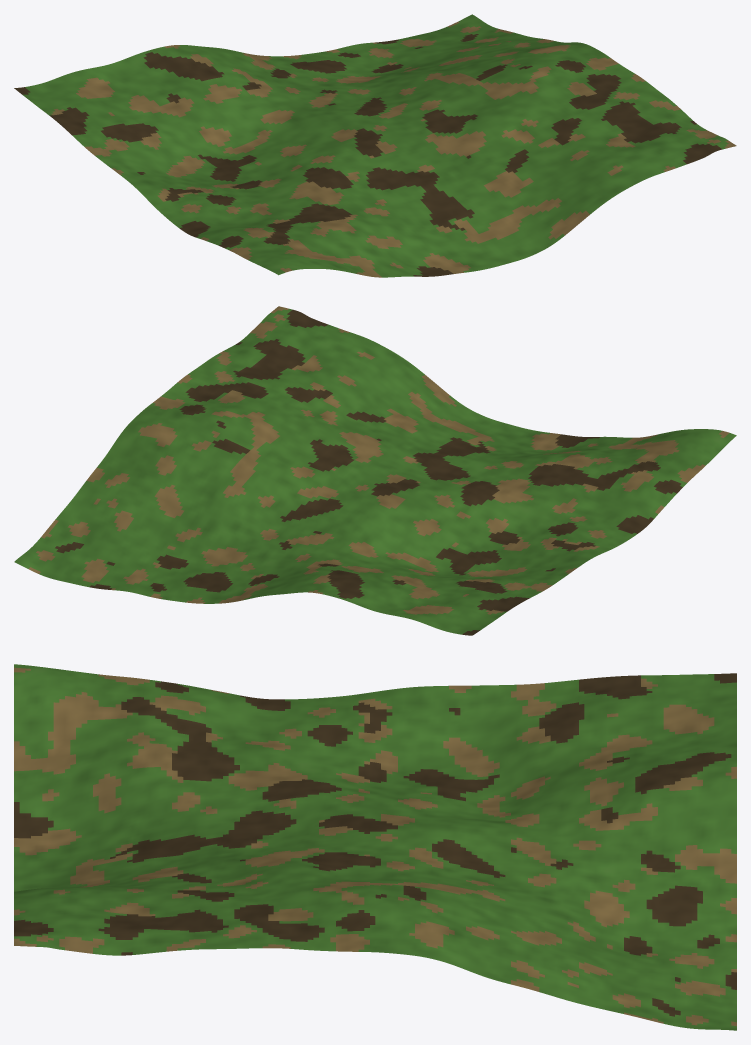
The model's file is chunk_0_5.glb.
3 renders of one model, top to bottom at view 1: azimuth 30°, elevation 25°; view 2: azimuth 150°, elevation 25°; view 3: azimuth 270°, elevation 25°, orthographic. The views are drawn at different scales.
Visible parts, largest first — view 1: Surface_Grass, Surface_Dirt, Surface_Mud; view 2: Surface_Grass, Surface_Dirt, Surface_Mud; view 3: Surface_Grass, Surface_Dirt, Surface_Mud.
Boxes of the visible parts, x1=… form: Surface_Grass: x1=22, y1=14, x2=728, y2=277; Surface_Dirt: x1=51, y1=21, x2=736, y2=277; Surface_Mud: x1=14, y1=34, x2=722, y2=276; Surface_Grass: x1=14, y1=309, x2=736, y2=634; Surface_Dirt: x1=28, y1=306, x2=729, y2=614; Surface_Mud: x1=55, y1=309, x2=682, y2=635; Surface_Grass: x1=14, y1=664, x2=736, y2=1030; Surface_Dirt: x1=14, y1=667, x2=736, y2=1026; Surface_Mud: x1=14, y1=673, x2=736, y2=1016.
Size of the model in its own units: 256 by 37.65 by 256.
